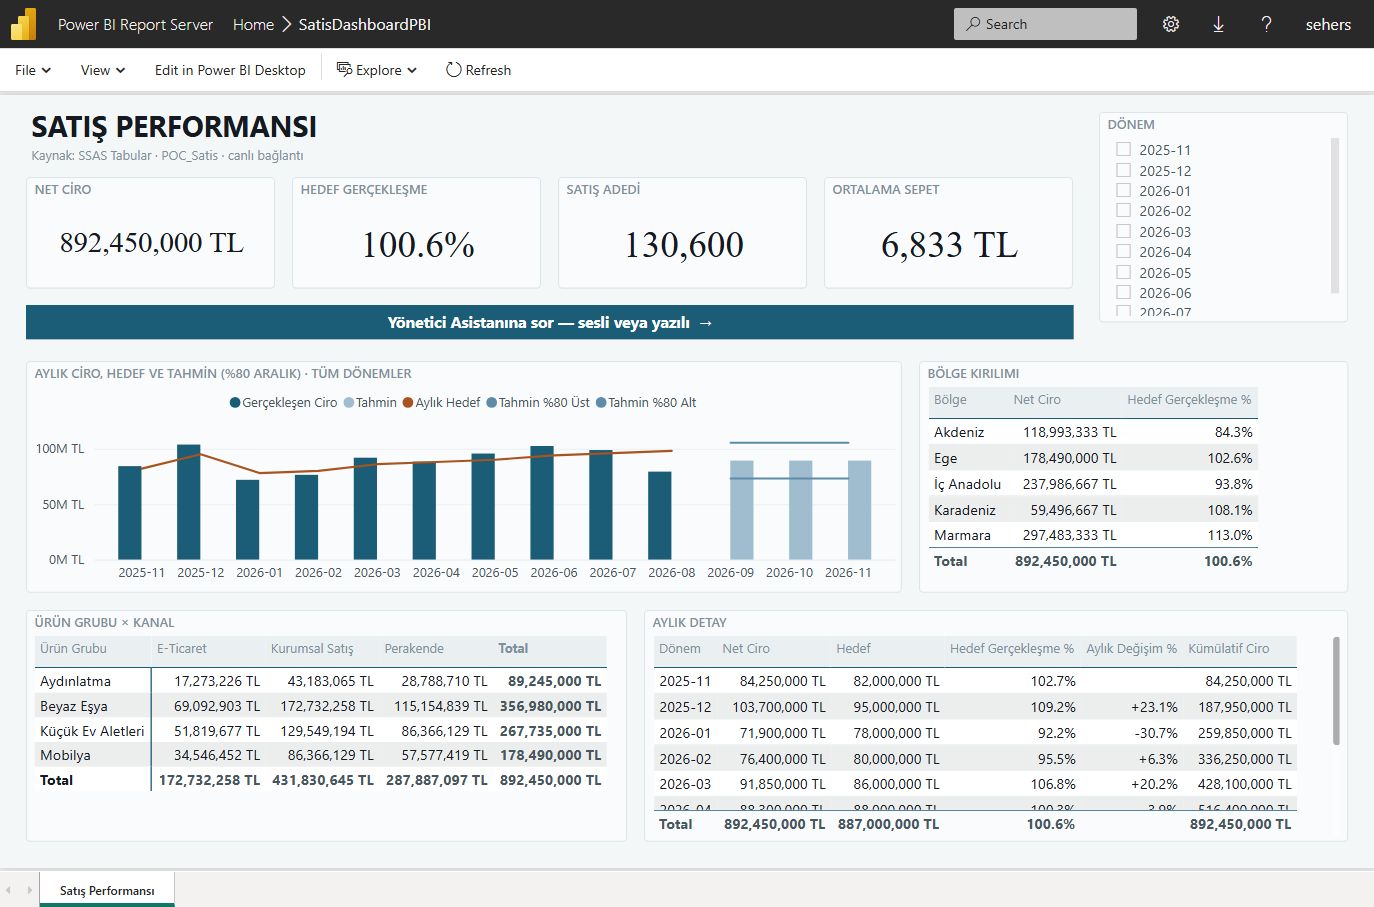

What the dashboard file says about the page in this screenshot:
{"tool":"powerbi","page":{"name":"Satış Performansı","canvas":[1280,720],"ordinal":0},"visuals":[{"type":"textbox","box":[24,6,620,68],"z":1000},{"type":"slicer","title":"DÖNEM","fields":{"Values":["Donem.Dönem"]},"box":[1024,16,232,196],"z":2000},{"type":"card","title":"NET CİRO","fields":{"Values":["Satis.Net Ciro"]},"box":[24,76,232,104],"z":3000},{"type":"card","title":"HEDEF GERÇEKLEŞME","fields":{"Values":["Satis.Hedef Gerçekleşme %"]},"box":[272,76,232,104],"z":4000},{"type":"card","title":"SATIŞ ADEDİ","fields":{"Values":["Satis.Satış Adet"]},"box":[520,76,232,104],"z":5000},{"type":"card","title":"ORTALAMA SEPET","fields":{"Values":["Satis.Ortalama Sepet"]},"box":[768,76,232,104],"z":6000},{"type":"textbox","box":[24,196,976,32],"z":7000},{"type":"lineClusteredColumnComboChart","title":"AYLIK CİRO, HEDEF VE TAHMİN (%80 ARALIK) · TÜM DÖNEMLER","fields":{"Category":["CiroSerisi.Dönem"],"Y":["CiroSerisi.Gerçekleşen Ciro","CiroSerisi.Tahmin"],"Y2":["CiroSerisi.Aylık Hedef","CiroSerisi.Tahmin %80 Üst","CiroSerisi.Tahmin %80 Alt"]},"box":[24,248,816,216],"z":8000},{"type":"tableEx","title":"BÖLGE KIRILIMI","fields":{"Values":["Bolge.Bölge","Satis.Net Ciro","Satis.Hedef Gerçekleşme %"]},"box":[856,248,400,216],"z":9000},{"type":"pivotTable","title":"ÜRÜN GRUBU × KANAL","fields":{"Rows":["UrunGrubu.Ürün Grubu"],"Columns":["Kanal.Kanal"],"Values":["Satis.Net Ciro"]},"box":[24,480,560,216],"z":10000},{"type":"tableEx","title":"AYLIK DETAY","fields":{"Values":["Donem.Dönem","Satis.Net Ciro","Satis.Hedef","Satis.Hedef Gerçekleşme %","Satis.Aylık Değişim %","Satis.Kümülatif Ciro"]},"box":[600,480,656,216],"z":11000}]}

Visuals, with their boxes on the page's 1280x720 design canvas (x1, y1, x2, y2). These are canvas units, not pixel positions in the 1374x907 screenshot, which may show the page scaled, cropped or inside an application window:
textbox: [left=24, top=6, right=644, bottom=74]
"DÖNEM" slicer: [left=1024, top=16, right=1256, bottom=212]
"NET CİRO" card: [left=24, top=76, right=256, bottom=180]
"HEDEF GERÇEKLEŞME" card: [left=272, top=76, right=504, bottom=180]
"SATIŞ ADEDİ" card: [left=520, top=76, right=752, bottom=180]
"ORTALAMA SEPET" card: [left=768, top=76, right=1000, bottom=180]
textbox: [left=24, top=196, right=1000, bottom=228]
"AYLIK CİRO, HEDEF VE TAHMİN (%80 ARALIK) · TÜM DÖNEMLER" lineClusteredColumnComboChart: [left=24, top=248, right=840, bottom=464]
"BÖLGE KIRILIMI" tableEx: [left=856, top=248, right=1256, bottom=464]
"ÜRÜN GRUBU × KANAL" pivotTable: [left=24, top=480, right=584, bottom=696]
"AYLIK DETAY" tableEx: [left=600, top=480, right=1256, bottom=696]
